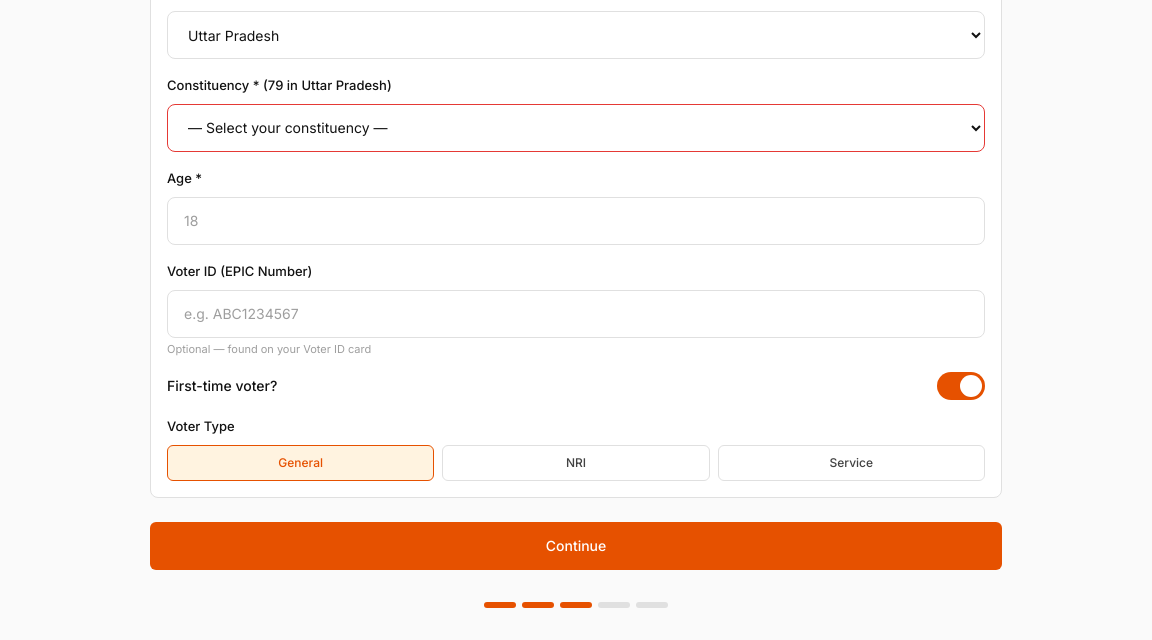
ProfileSetup Page › should show validation errors for empty form
The image size is (1152, 640).
(page scrolled)
What coordinates should you click on to do the following:
click the button "Continue"
I would click on:
 (576, 546)
Its box is [150,522,1002,570].
(page scrolled)
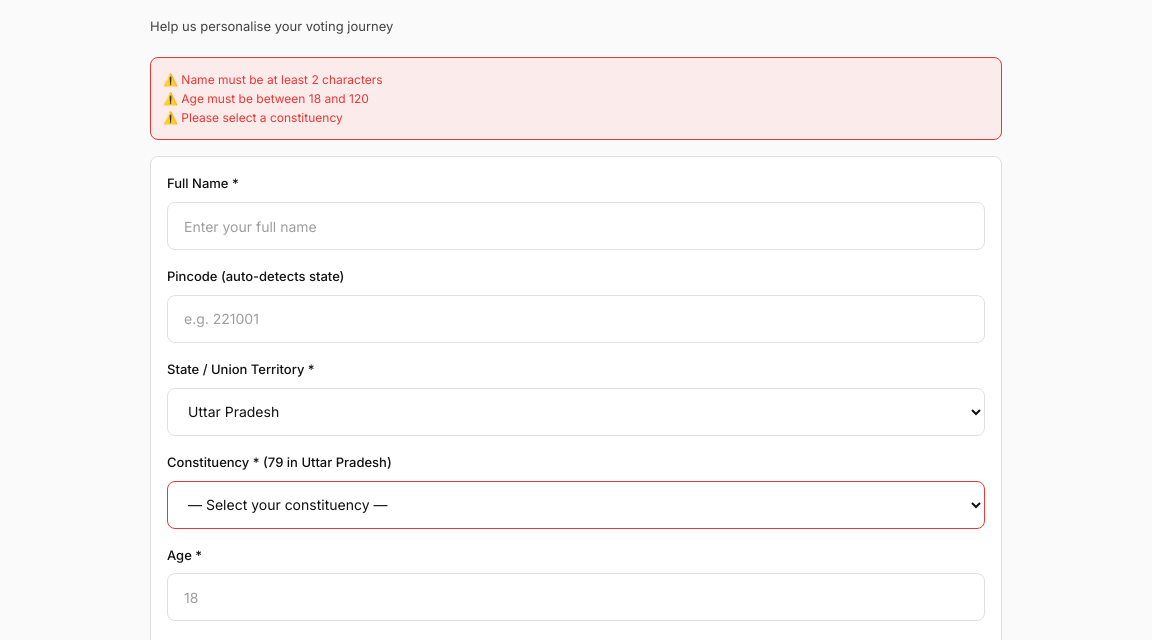
Expected: the message is shown, [150,57,1002,140]
